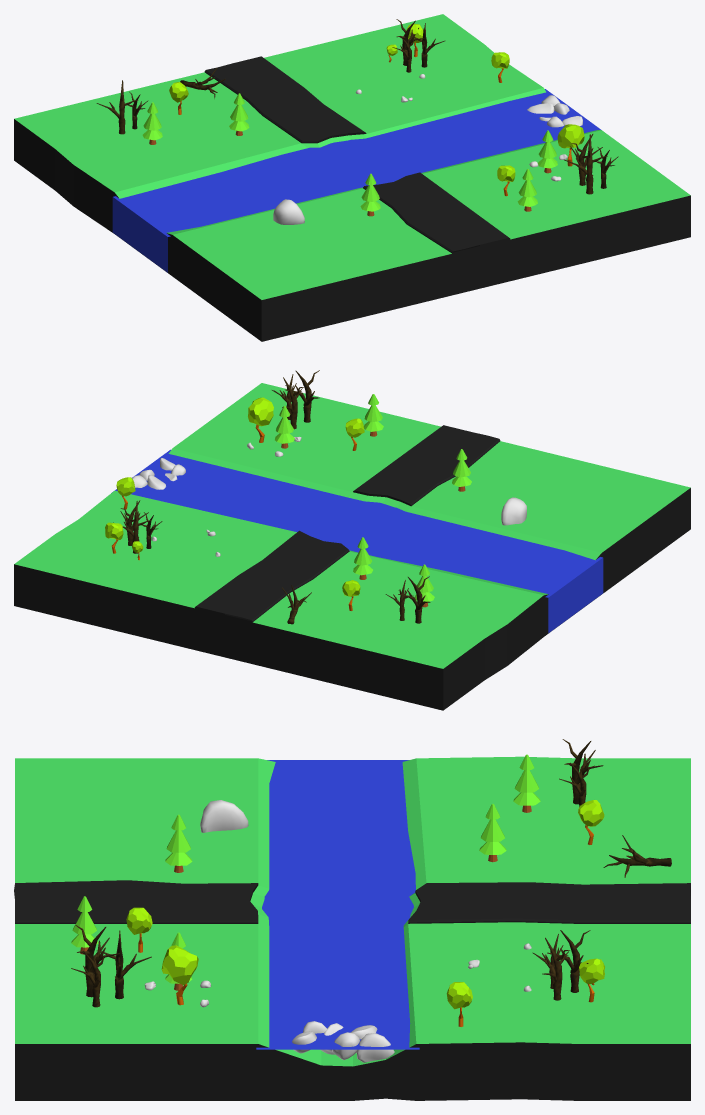
The model's file is FazeMockup.fbx.
3 renders of one model, top to bottom at view 1: azimuth 30°, elevation 25°; view 2: azimuth 150°, elevation 25°; view 3: azimuth 270°, elevation 25°, orthographic. The views are drawn at different scales.
Visible parts, largest first — view 1: Solo, Rio, Arvore Seca, Arvores_tipo_1, Arvores_tipo_2, Pedras; view 2: Solo, Rio, Arvore Seca, Arvores_tipo_1, Arvores_tipo_2, Pedras; view 3: Solo, Rio, Arvore Seca, Pedras, Arvores_tipo_1, Arvores_tipo_2.
Boxes of the visible parts, x1=… form: Solo: x1=14, y1=14, x2=690, y2=341; Rio: x1=112, y1=89, x2=600, y2=272; Arvore Seca: x1=96, y1=19, x2=618, y2=194; Arvores_tipo_1: x1=142, y1=93, x2=557, y2=216; Arvores_tipo_2: x1=169, y1=23, x2=584, y2=196; Pedras: x1=273, y1=74, x2=582, y2=224; Solo: x1=14, y1=383, x2=690, y2=710; Rio: x1=112, y1=449, x2=603, y2=633; Arvore Seca: x1=113, y1=370, x2=430, y2=624; Arvores_tipo_1: x1=275, y1=394, x2=471, y2=607; Arvores_tipo_2: x1=105, y1=397, x2=364, y2=610; Pedras: x1=132, y1=436, x2=526, y2=556; Solo: x1=14, y1=756, x2=690, y2=1100; Rio: x1=256, y1=760, x2=419, y2=1049; Arvore Seca: x1=71, y1=739, x2=671, y2=1007; Pedras: x1=144, y1=800, x2=531, y2=1062; Arvores_tipo_1: x1=71, y1=754, x2=540, y2=990; Arvores_tipo_2: x1=126, y1=800, x2=604, y2=1026.
Size of the model in its own units: 1010 by 211 by 998.
